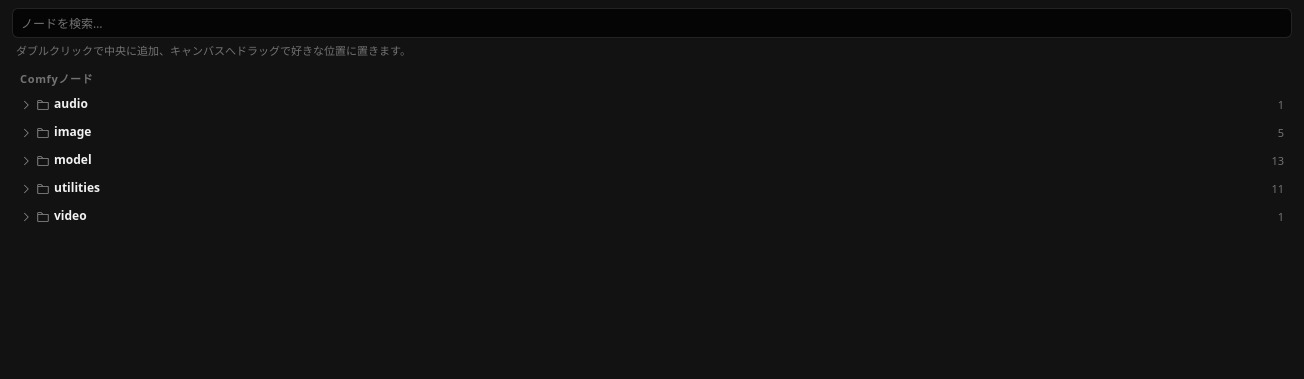
Scenario: the node library › shows the nodes section with its folders closed, opens one on a click and closes it on the next
Expected: the element with test id "wf-lib-section" shows "Comfyノード", [20,71,93,86]
Step 1. Click the button with test id "wf-lib-group" showing "image 5" → (73, 132), box [12,119,1292,147]
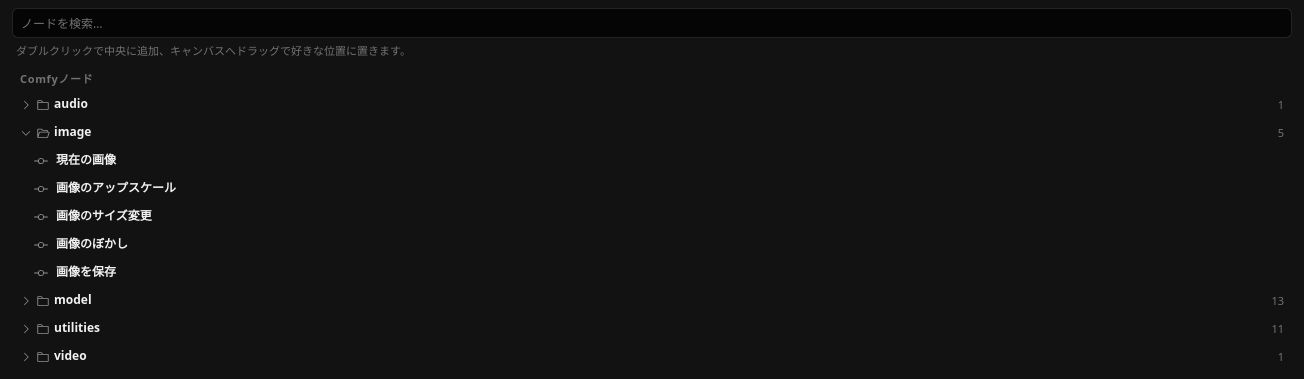
Result: the button with test id "wf-lib-item" showing "現在の画像" is shown at [12,147,1292,175]
Result: the button with test id "wf-lib-group" is expanded
Step 2. Click the button with test id "wf-lib-group" showing "image 5" → (73, 132), box [12,119,1292,147]
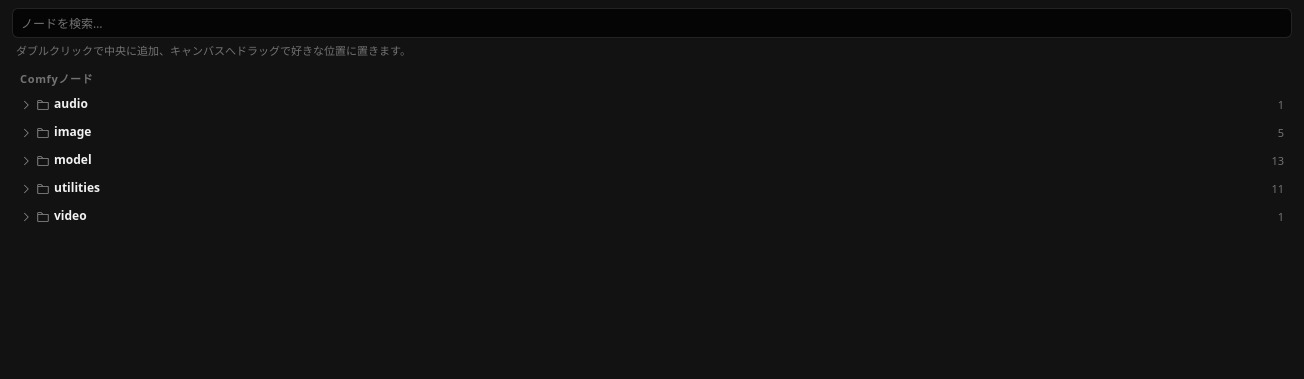
Result: no buttons with test id "wf-lib-item" are shown
